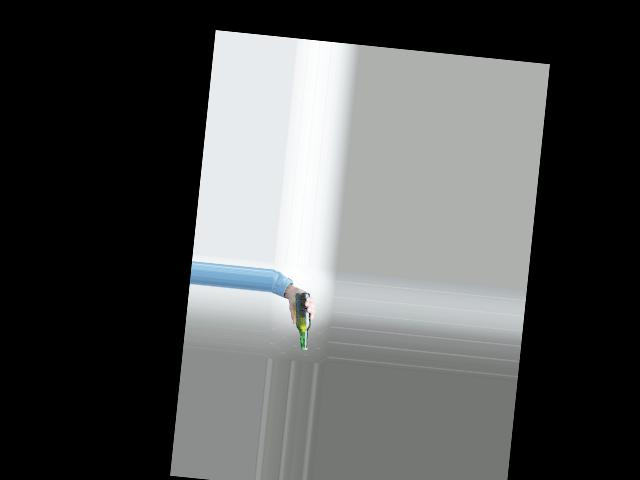beer: (289, 292, 314, 349)
